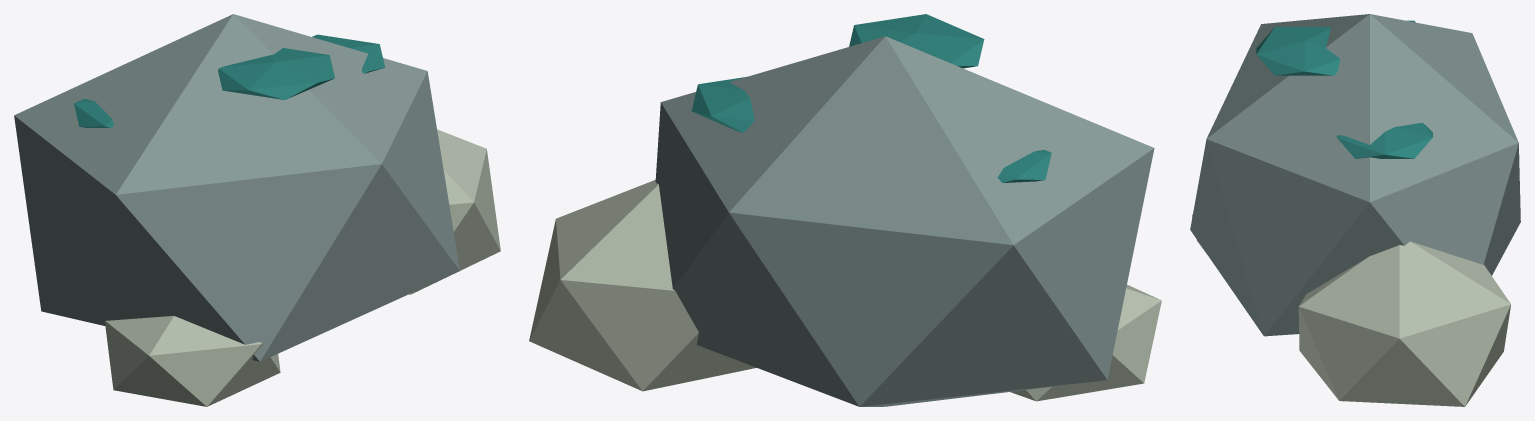
The model's file is rock.glb.
3 renders of one model, left to right at view 1: azimuth 30°, elevation 25°; view 2: azimuth 150°, elevation 25°; view 3: azimuth 270°, elevation 25°, orthographic. The views are drawn at different scales.
Visible parts, largest first — view 1: Weathered low polygon stone, Weathered low polygon stone.002, Weathered low polygon stone.001, Jade moss patch, Jade moss patch.001, Jade moss patch.002; view 2: Weathered low polygon stone, Weathered low polygon stone.001, Weathered low polygon stone.002, Jade moss patch, Jade moss patch.001, Jade moss patch.002; view 3: Weathered low polygon stone, Weathered low polygon stone.001, Jade moss patch, Jade moss patch.001.
Part boxes in pixels (bbox=[...]): Weathered low polygon stone: bbox=[14, 14, 459, 361]; Weathered low polygon stone.002: bbox=[105, 316, 280, 406]; Weathered low polygon stone.001: bbox=[409, 129, 500, 294]; Jade moss patch: bbox=[218, 48, 334, 99]; Jade moss patch.001: bbox=[312, 34, 385, 73]; Jade moss patch.002: bbox=[74, 98, 113, 127]; Weathered low polygon stone: bbox=[655, 36, 1154, 406]; Weathered low polygon stone.001: bbox=[529, 180, 756, 391]; Weathered low polygon stone.002: bbox=[1010, 284, 1161, 401]; Jade moss patch: bbox=[849, 14, 984, 68]; Jade moss patch.001: bbox=[691, 77, 754, 132]; Jade moss patch.002: bbox=[997, 149, 1051, 182]; Weathered low polygon stone: bbox=[1190, 14, 1520, 336]; Weathered low polygon stone.001: bbox=[1298, 241, 1510, 406]; Jade moss patch: bbox=[1256, 27, 1340, 75]; Jade moss patch.001: bbox=[1336, 122, 1432, 158].
Bounding box in the file's own units: 1.69 × 1.12 × 1.11.
